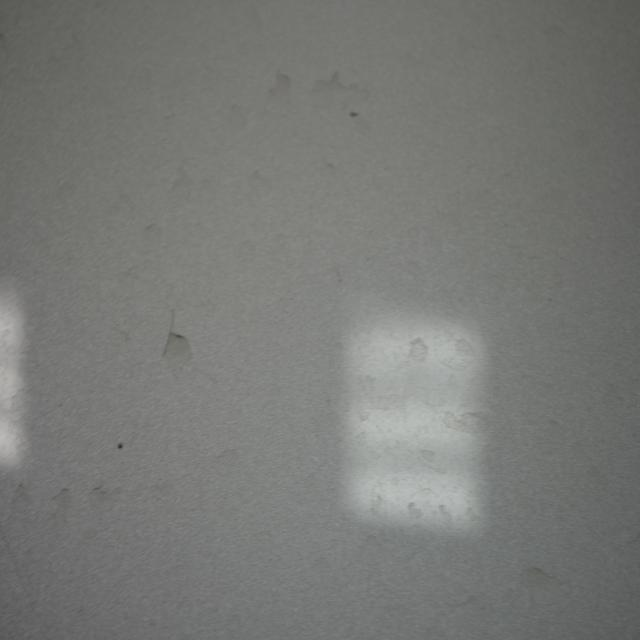dirt: (351, 104, 361, 125), (116, 440, 124, 451)
water marks: (3, 477, 76, 567), (307, 66, 374, 112), (518, 562, 574, 614), (356, 366, 398, 422), (264, 63, 301, 122), (163, 153, 199, 213), (440, 331, 478, 386), (442, 405, 490, 447), (163, 329, 197, 380), (225, 86, 256, 138), (212, 443, 246, 485), (246, 166, 274, 204), (405, 331, 434, 366), (123, 260, 143, 288), (403, 498, 423, 525), (366, 486, 385, 514), (435, 497, 454, 525)
